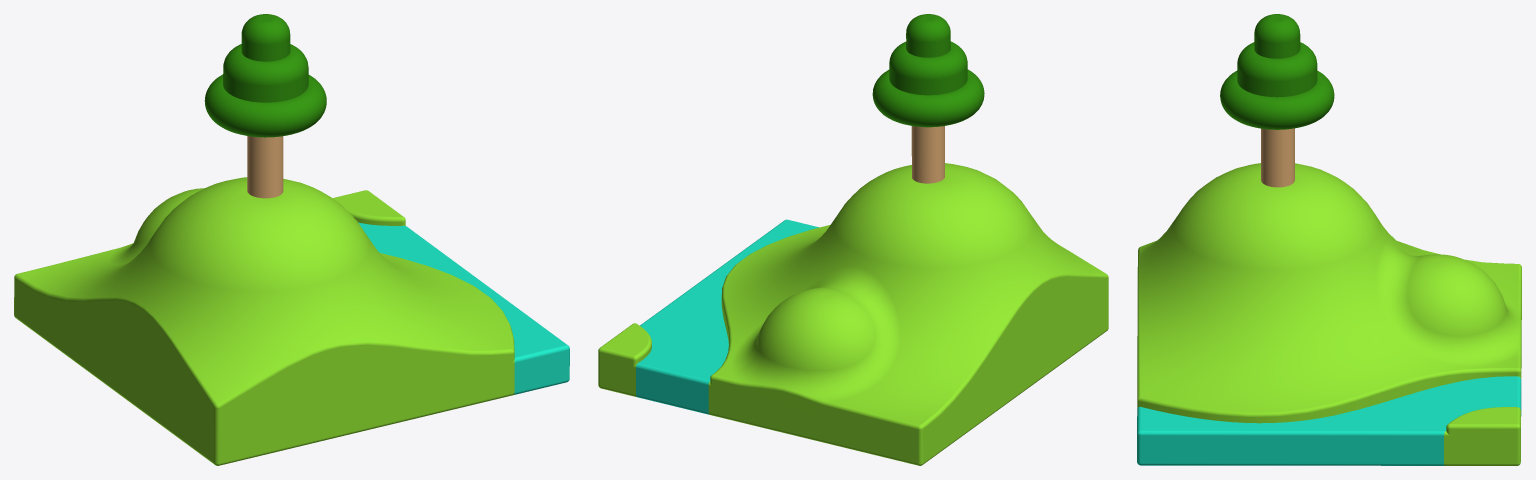
Rendered from fore.glb.
3 renders of one model, left to right at view 1: azimuth 30°, elevation 25°; view 2: azimuth 150°, elevation 25°; view 3: azimuth 270°, elevation 25°, orthographic. The views are drawn at different scales.
Parts seen in each view (by area): view 1: Body7; view 2: Body7; view 3: Body7.
Part boxes in pixels (<box>): Body7: <box>14,14,569,465</box>; Body7: <box>598,14,1108,465</box>; Body7: <box>1137,14,1521,465</box>.
Size of the model in its own units: 0.0502 by 0.0493 by 0.0501.
